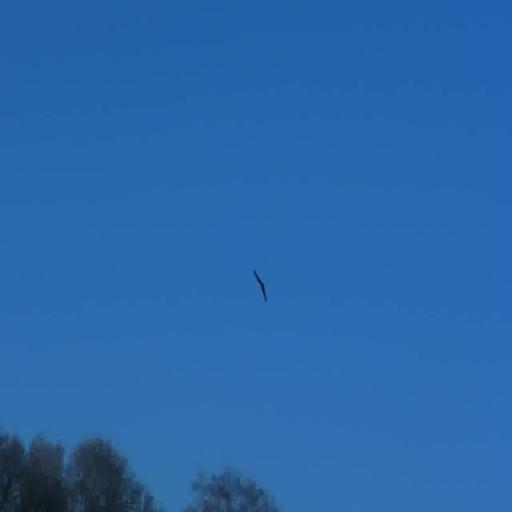uav: (248, 265, 270, 310)
